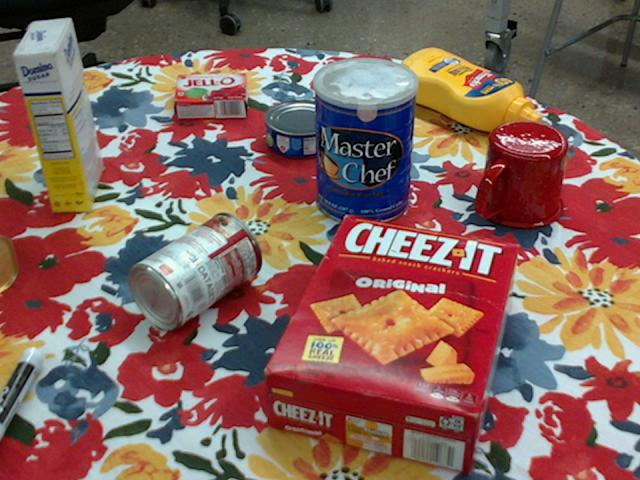cracker_box: (261, 218, 518, 474)
gelatin_box: (171, 75, 246, 121)
large_marker: (0, 346, 44, 434)
master_chef_can: (314, 58, 419, 227)
mug: (474, 122, 568, 230)
mustard_bottle: (393, 48, 540, 132)
potted_meat_can: (0, 234, 17, 291)
sugar_box: (14, 16, 102, 212)
tomato_soup_can: (127, 212, 261, 331)
tuna_fish_can: (264, 100, 337, 158)
